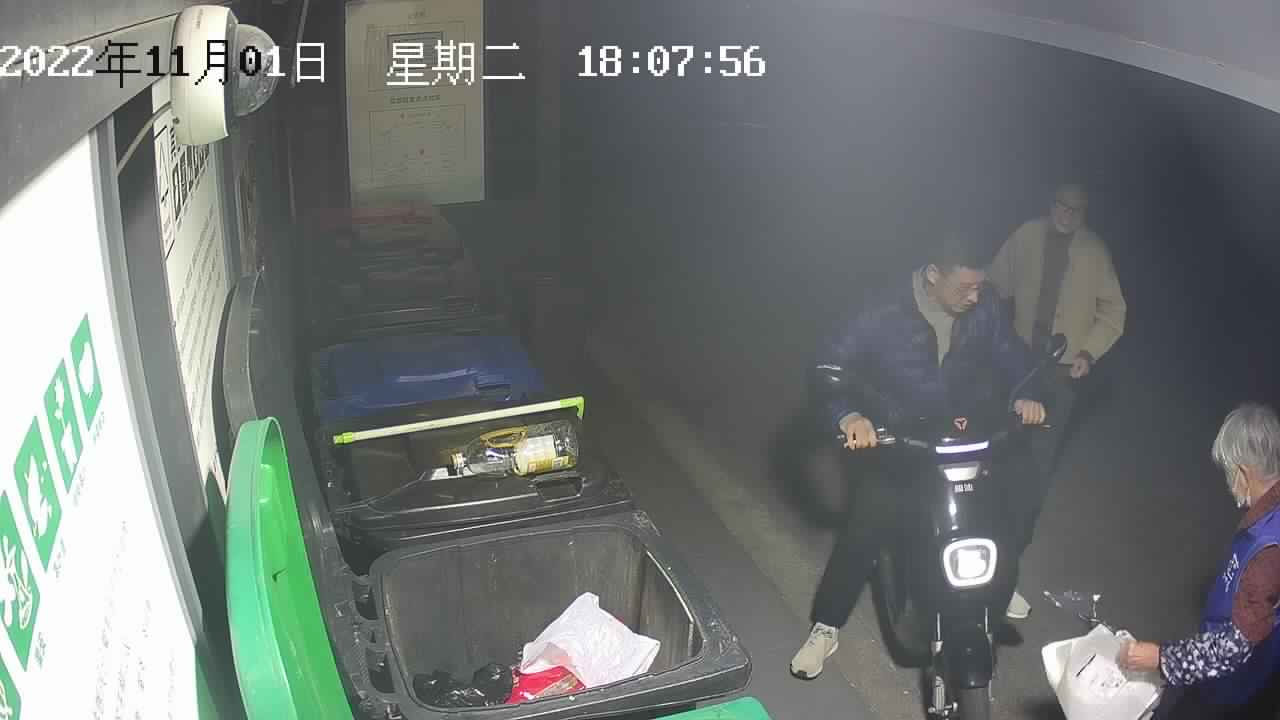person: (788, 222, 1048, 679), (985, 174, 1127, 482)
suliaozhipin: (1040, 587, 1167, 720)
worker: (1113, 399, 1279, 720)
